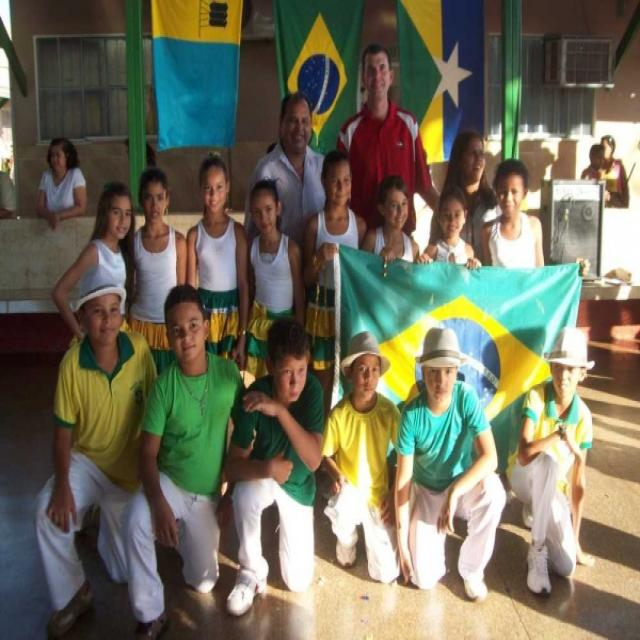body: (31, 261, 166, 640), (122, 277, 243, 637), (390, 319, 507, 610), (221, 314, 321, 622), (504, 324, 598, 599), (332, 38, 442, 240), (318, 330, 404, 587), (301, 147, 368, 418), (49, 180, 140, 348), (184, 152, 250, 376), (241, 88, 331, 252), (477, 157, 591, 280), (243, 176, 303, 382), (126, 166, 189, 350), (428, 128, 506, 270), (413, 180, 483, 268), (358, 172, 422, 267), (34, 134, 88, 230), (598, 134, 632, 209), (0, 156, 19, 225), (579, 142, 606, 182)
